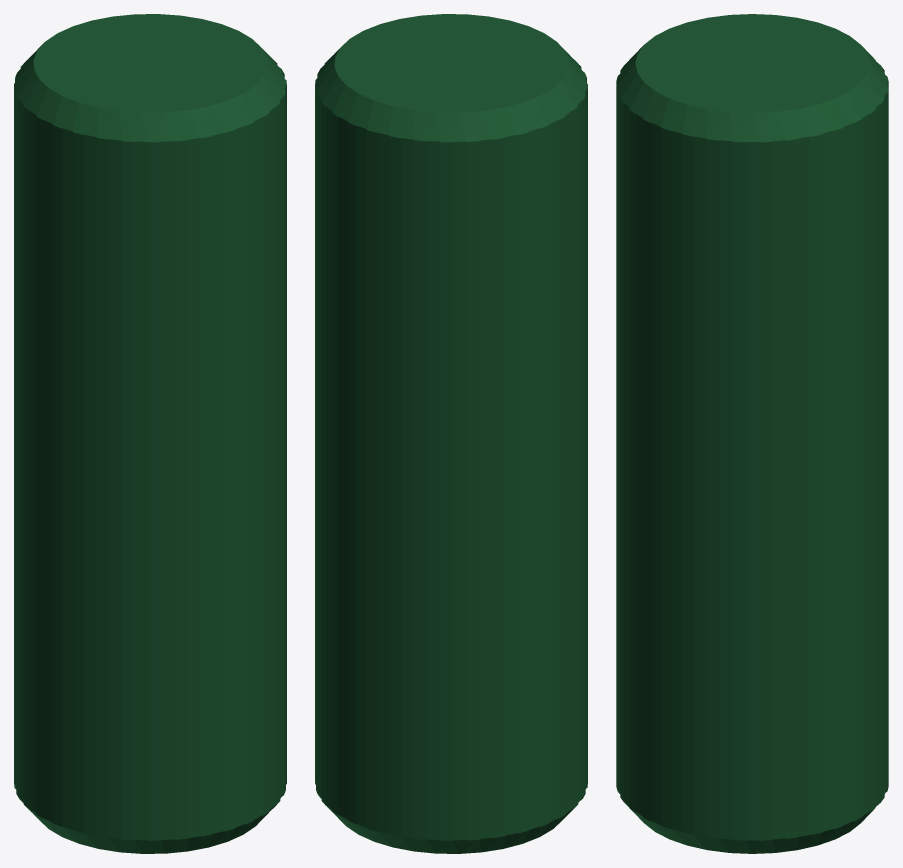
3 views of the same model, side by side, from view 1: azimuth 30°, elevation 25°; view 2: azimuth 150°, elevation 25°; view 3: azimuth 270°, elevation 25° (orthographic).
Visible parts, largest first — view 1: 柱体; view 2: 柱体; view 3: 柱体.
Boxes of the visible parts, x1,y1,x2,y2 form: 柱体: (14,14,286,853); 柱体: (315,14,587,853); 柱体: (616,14,888,853).
Bounding box in the file's own units: 200 × 600 × 200.
